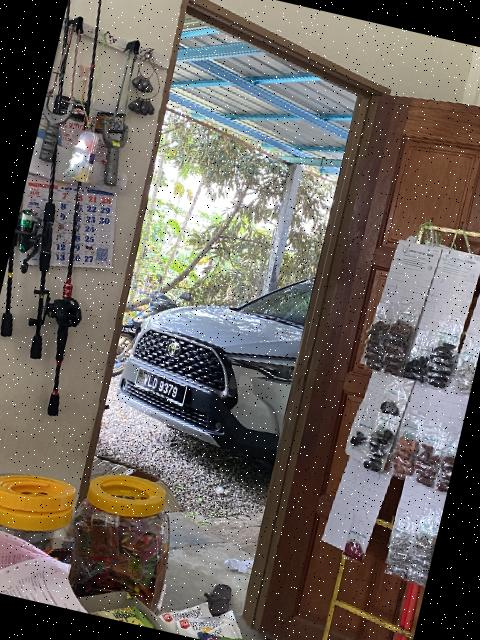License_Plate: (130, 365, 190, 410)
